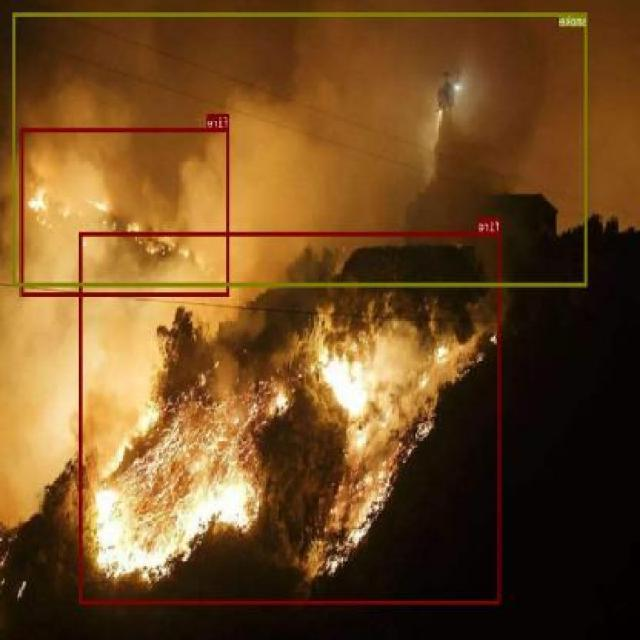Fire: (80, 231, 502, 604), (22, 128, 230, 297)
Smoke: (14, 12, 588, 286)
